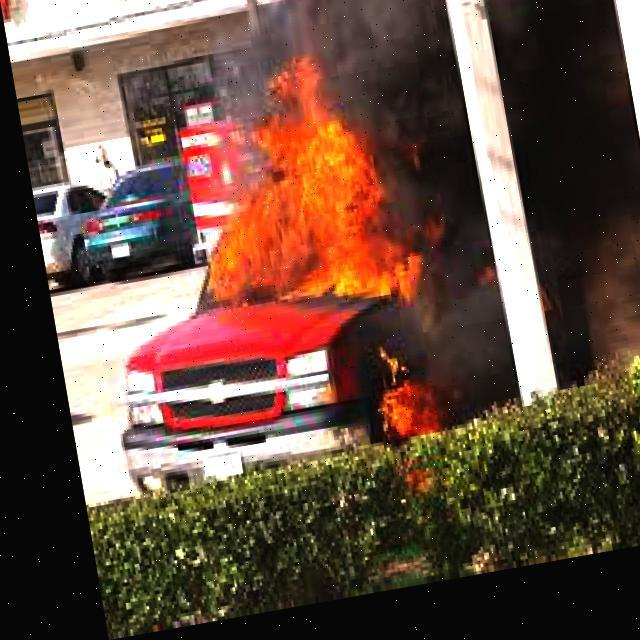Fire: (178, 52, 452, 330), (336, 328, 450, 462)
